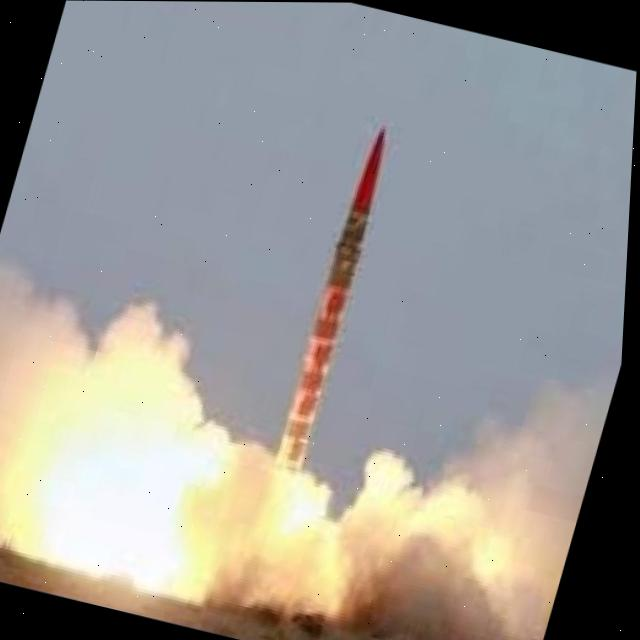missile: (266, 116, 403, 485)
